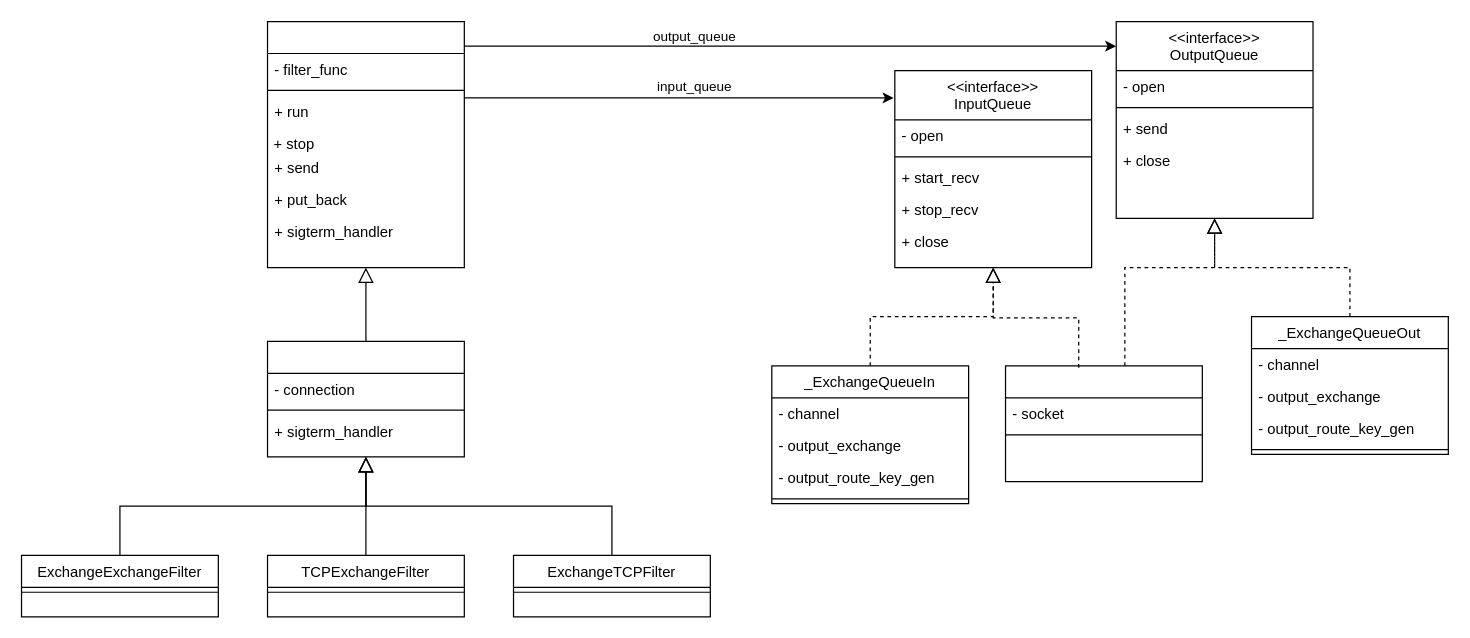
Some shapes in this 1470 by 638 pixel diagram are drawn without their labels. Here are the shapes that lost their labels. From the top down, the box of each, then its label:
(266, 20, 464, 268): _BaseFilter
(266, 340, 464, 457): _ConnectionFilter
(1004, 365, 1202, 482): _TCPQueue
